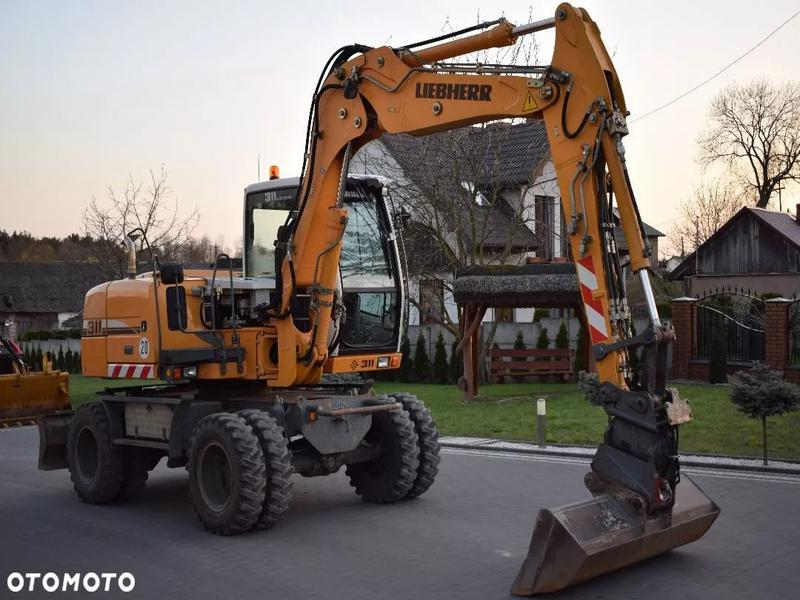shovel: (73, 10, 722, 600)
